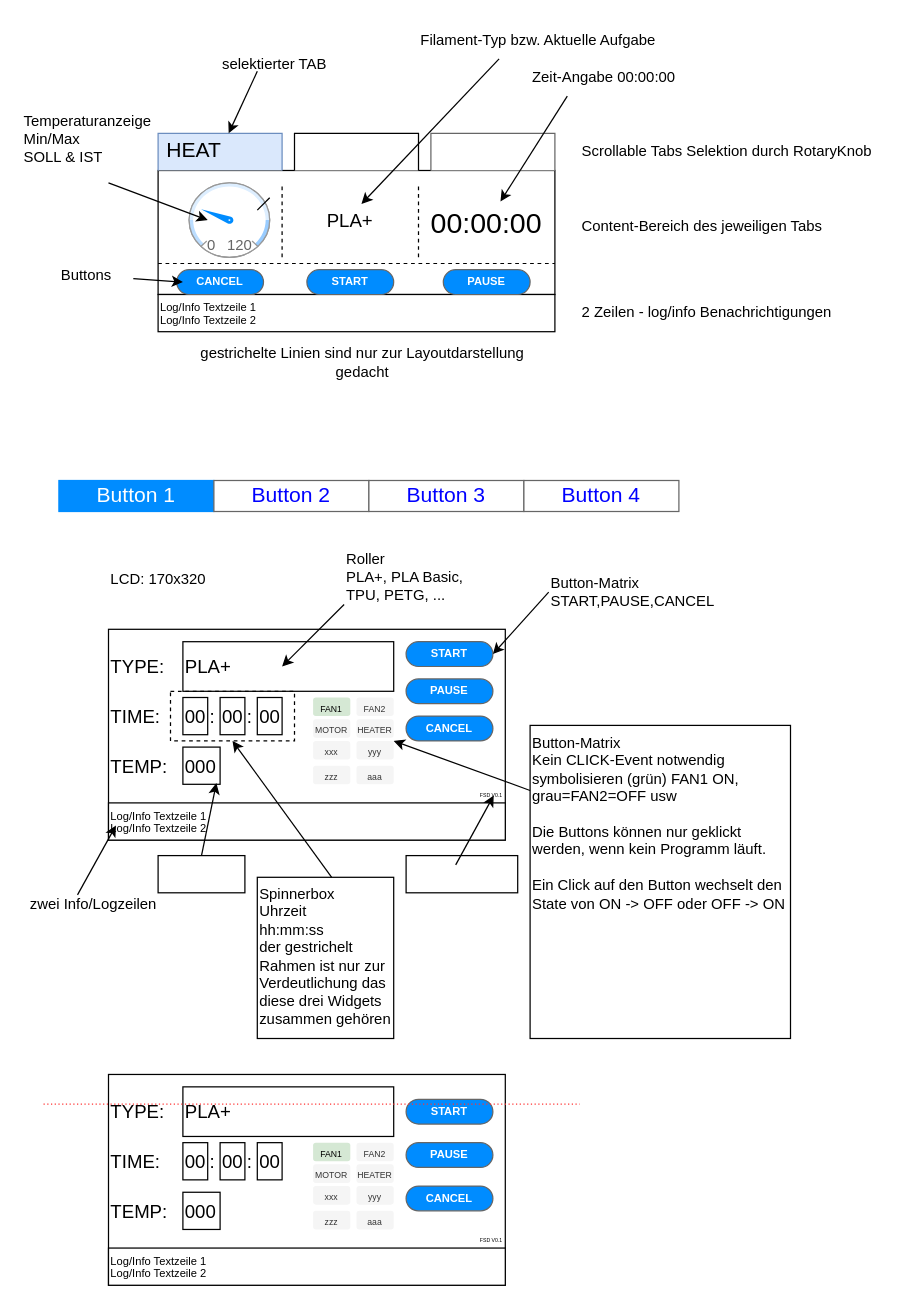
The diagram is 923 pixels wide and 1307 high, and some of its shapes have lost their labels. The centre of each missing label's shape, as x and y in pixels:
"CFG" belongs at point (355, 151).
"Label (version)" belongs at point (461, 873).
"Spinnerbox 0-120°" belongs at point (201, 873).
"STAT" belongs at point (492, 151).
"Temp" belongs at point (228, 205).
